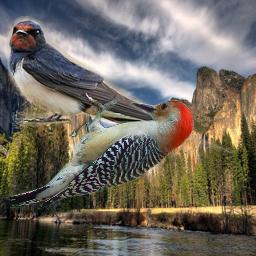Swallow: (6, 16, 234, 153)
Woodpecker: (3, 91, 197, 212)
